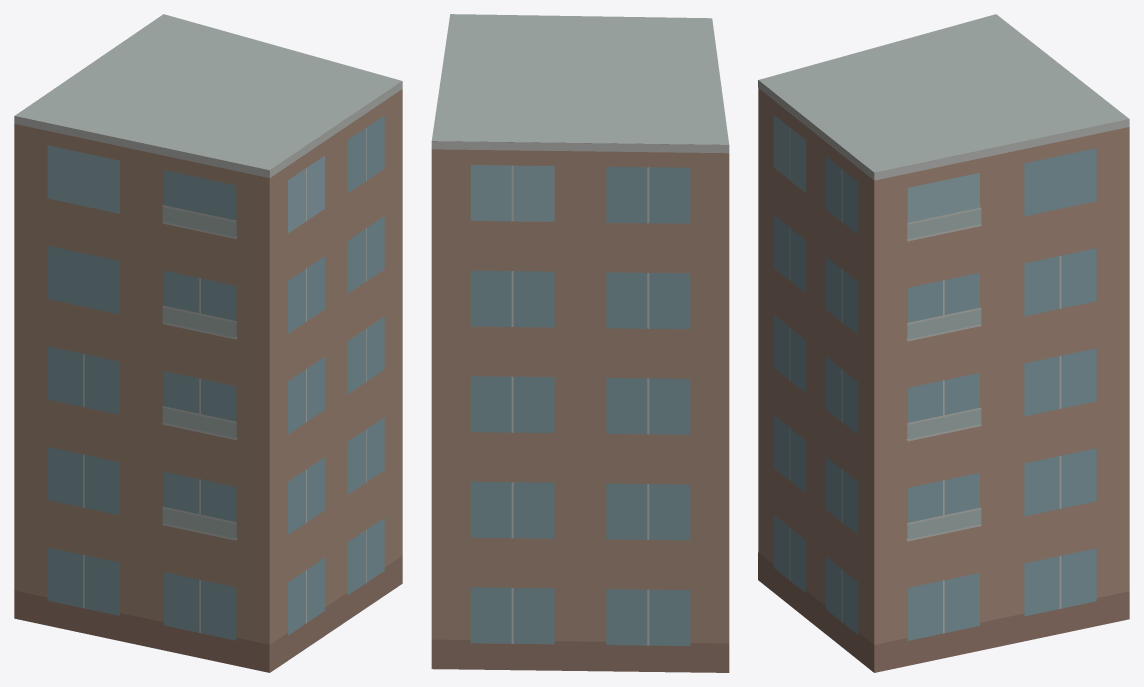
Rendered from survey-upis-33041641.glb.
3 views of the same model, side by side, from view 1: azimuth 30°, elevation 25°; view 2: azimuth 150°, elevation 25°; view 3: azimuth 270°, elevation 25° (orthographic). The views are drawn at different scales.
Visible parts, largest first — view 1: survey-upis-33041641.tmp; view 2: survey-upis-33041641.tmp; view 3: survey-upis-33041641.tmp.
Part boxes in pixels (x1,y1,x2,y2): survey-upis-33041641.tmp: (14, 14, 402, 672); survey-upis-33041641.tmp: (431, 14, 729, 672); survey-upis-33041641.tmp: (758, 14, 1129, 672).
Bounding box in the file's own units: 10.56 × 15.5 × 10.44.
